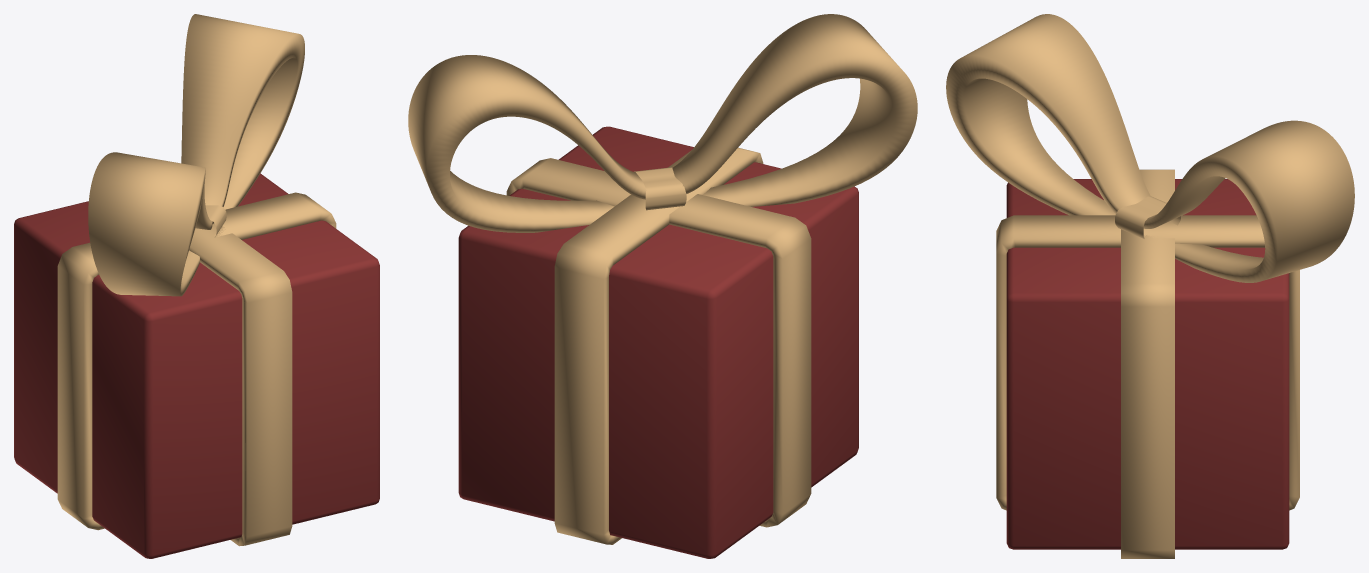
Rendered from Gift_node_join.fbx.
The picture shows the model from 3 angles, left to right: view 1: azimuth 30°, elevation 25°; view 2: azimuth 150°, elevation 25°; view 3: azimuth 270°, elevation 25°; orthographic projection. The views are drawn at different scales.
Parts seen in each view (by area): view 1: Cube, NurbsPath, Cube.001; view 2: Cube, NurbsPath, Cube.001; view 3: Cube, NurbsPath, Cube.001.
Part boxes in pixels (box(x1,y1,x2,y2)): Cube: box(14, 173, 379, 558); NurbsPath: box(88, 14, 304, 296); Cube.001: box(57, 192, 336, 546); Cube: box(458, 126, 858, 558); NurbsPath: box(408, 14, 917, 232); Cube.001: box(506, 147, 811, 544); Cube: box(1006, 179, 1289, 549); NurbsPath: box(946, 14, 1354, 282); Cube.001: box(996, 169, 1299, 558).
Size of the model in its own units: 289 by 324 by 289.
